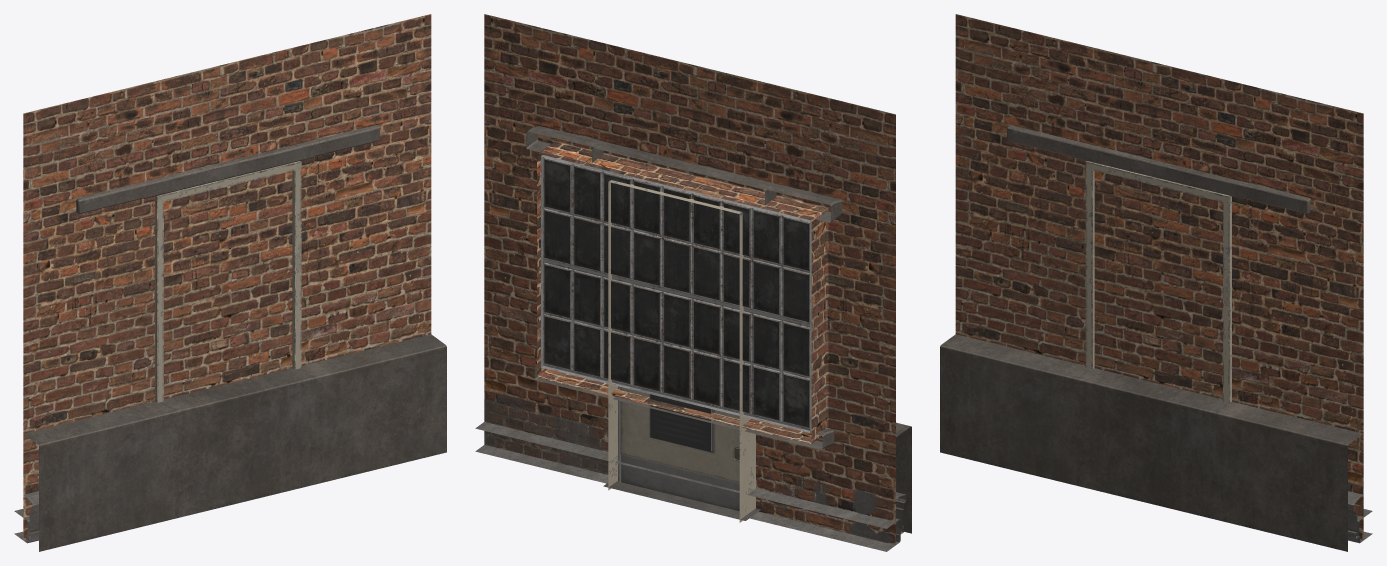
The model's file is street-kit.gltf.
3 views of the same model, side by side, from view 1: azimuth 30°, elevation 25°; view 2: azimuth 150°, elevation 25°; view 3: azimuth 330°, elevation 25° (orthographic).
Parts seen in each view (by area): view 1: wall_standard_standard_01, base_standard_standard_01, wall_door_centered_small_01, wall_window_centered_large_01, door_centered_small_01, window_centered_large_01; view 2: wall_standard_standard_01, window_centered_large_01, wall_window_centered_large_01, wall_door_centered_small_01, door_centered_small_01, crown_standard_standard_01, cornice02_standard_standard_01, base_standard_standard_01; view 3: wall_standard_standard_01, base_standard_standard_01, wall_door_centered_small_01, wall_window_centered_large_01, door_centered_small_01, window_centered_large_01.
Part boxes in pixels (box(x1,y1,x2,y2)): wall_standard_standard_01: box(23, 14, 431, 536); base_standard_standard_01: box(23, 334, 446, 551); wall_door_centered_small_01: box(23, 20, 431, 540); wall_window_centered_large_01: box(23, 14, 431, 493); door_centered_small_01: box(144, 145, 314, 402); window_centered_large_01: box(76, 125, 379, 213); wall_standard_standard_01: box(484, 15, 895, 540); window_centered_large_01: box(526, 126, 842, 449); wall_window_centered_large_01: box(484, 15, 895, 533); wall_door_centered_small_01: box(484, 14, 895, 544); door_centered_small_01: box(592, 147, 776, 522); crown_standard_standard_01: box(484, 399, 906, 542); cornice02_standard_standard_01: box(475, 422, 900, 551); base_standard_standard_01: box(896, 422, 911, 533); wall_standard_standard_01: box(955, 14, 1363, 509); base_standard_standard_01: box(940, 334, 1363, 551); wall_door_centered_small_01: box(955, 21, 1363, 540); wall_window_centered_large_01: box(955, 14, 1363, 504); door_centered_small_01: box(1072, 145, 1242, 402); window_centered_large_01: box(1007, 125, 1310, 213).
Size of the model in its own units: 3 by 3 by 0.405.
Materials: 5 (5 with a texture image).
